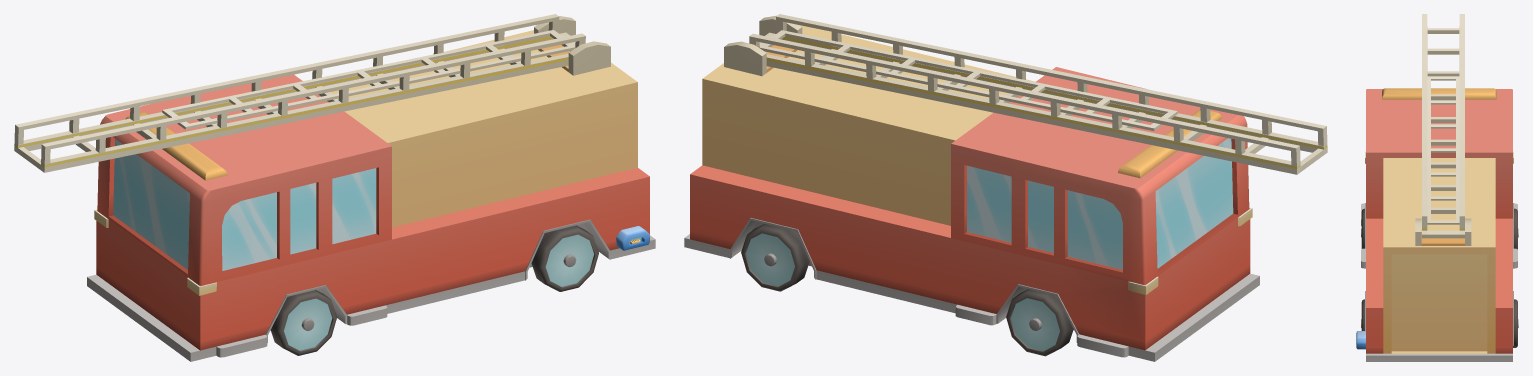
Rendered from firetruck.fbx.
The picture shows the model from 3 angles, left to right: view 1: azimuth 30°, elevation 25°; view 2: azimuth 150°, elevation 25°; view 3: azimuth 270°, elevation 25°; orthographic projection. The views are drawn at different scales.
Parts seen in each view (by area): view 1: firetruck, ladder_base, ladder_extend, MICRO_port_blue_firetruck; view 2: firetruck, ladder_base, ladder_extend; view 3: firetruck, ladder_base, ladder_extend, MICRO_port_blue_firetruck.
Boxes of the visible parts, <box> form: firetruck: <box>87,30,655,361</box>; ladder_base: <box>14,14,610,172</box>; ladder_extend: <box>162,30,575,129</box>; MICRO_port_blue_firetruck: <box>616,226,649,250</box>; firetruck: <box>684,25,1259,361</box>; ladder_base: <box>724,14,1327,174</box>; ladder_extend: <box>760,30,1177,130</box>; firetruck: <box>1361,88,1518,361</box>; ladder_base: <box>1415,14,1471,245</box>; ladder_extend: <box>1427,76,1459,224</box>; MICRO_port_blue_firetruck: <box>1356,331,1365,349</box>.
Size of the model in its own units: 458 by 177 by 159.
